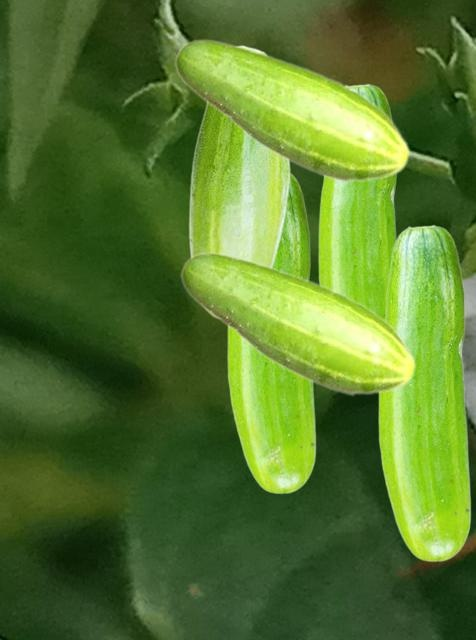cucumber: (174, 38, 410, 183), (180, 251, 416, 396), (378, 224, 470, 561), (227, 172, 315, 493), (188, 45, 289, 318), (318, 83, 397, 316)
